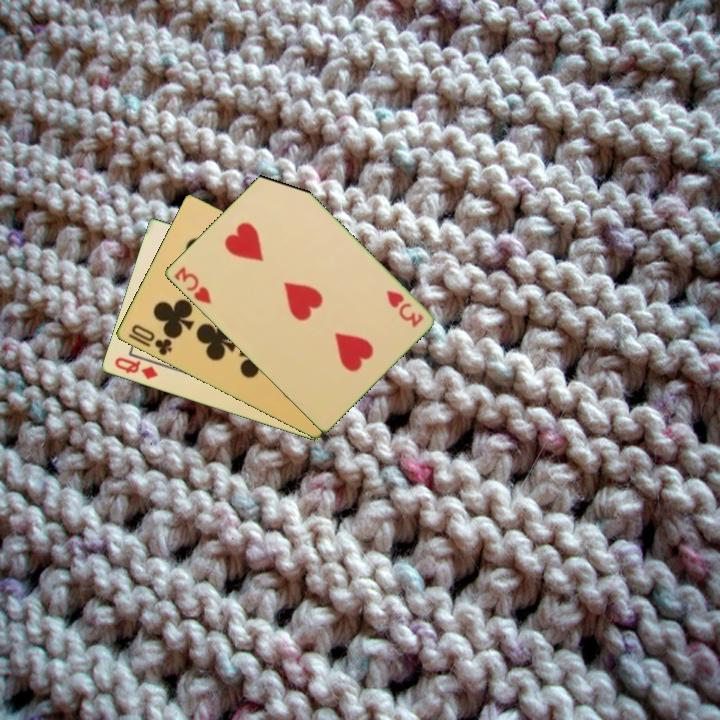10c: (127, 321, 174, 359)
3h: (170, 263, 214, 307), (382, 286, 426, 330)
Qd: (110, 354, 161, 382)
